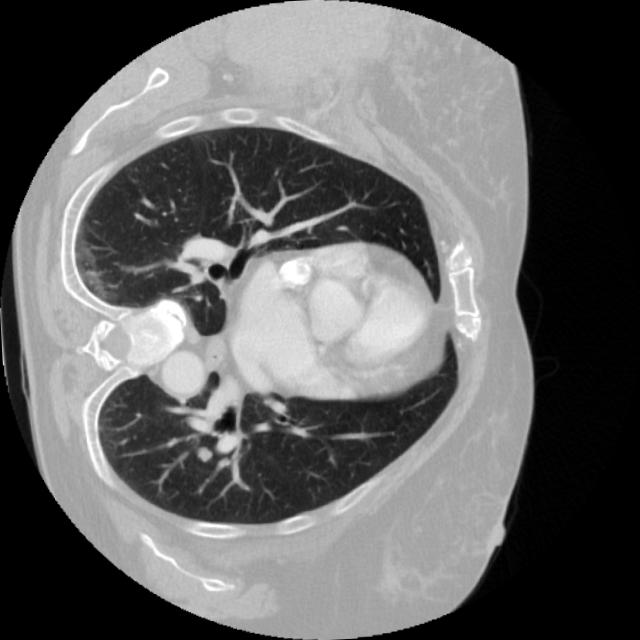nodule: (188, 435, 222, 469)
